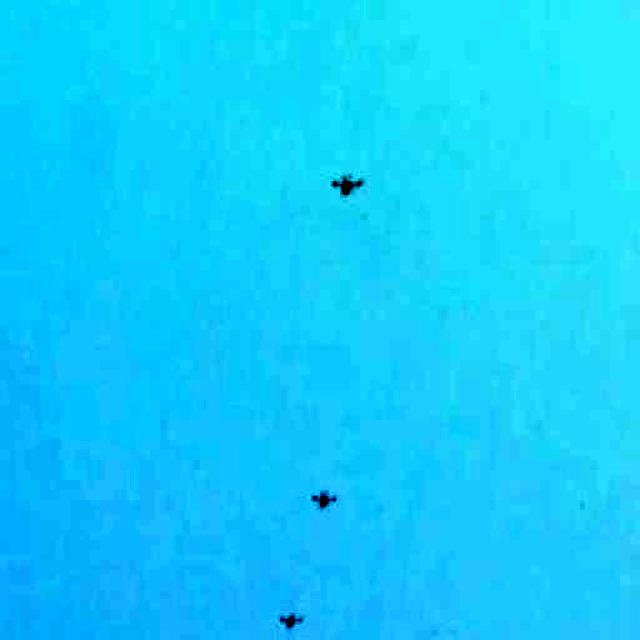bird: (296, 486, 359, 521), (328, 160, 375, 201), (271, 600, 312, 640)
